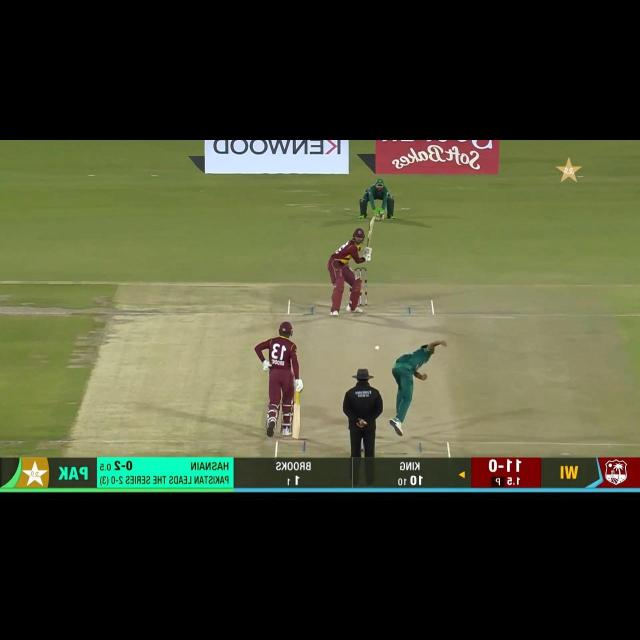bat: (364, 215, 376, 248), (292, 405, 300, 440)
toe: (370, 216, 376, 227), (290, 435, 300, 441)
